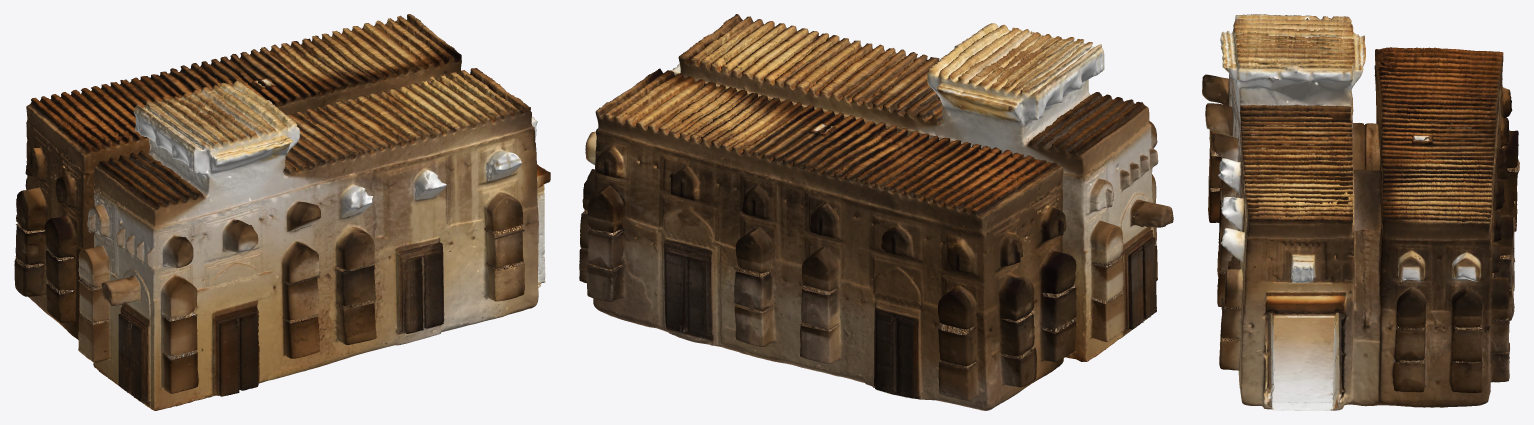
3 renders of one model, left to right at view 1: azimuth 30°, elevation 25°; view 2: azimuth 150°, elevation 25°; view 3: azimuth 270°, elevation 25°, orthographic. The views are drawn at different scales.
Visible parts, largest first — view 1: OMN_001_M4_Room; view 2: OMN_001_M4_Room; view 3: OMN_001_M4_Room.
Part boxes in pixels (x1=…): OMN_001_M4_Room: x1=14, y1=14, x2=550, y2=410; OMN_001_M4_Room: x1=579, y1=14, x2=1173, y2=410; OMN_001_M4_Room: x1=1202, y1=14, x2=1519, y2=410.
Size of the model in its own units: 21.45 by 11.58 by 13.94.
Materials: 1 (1 with a texture image).
